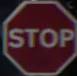Stop: (2, 8, 73, 69)
